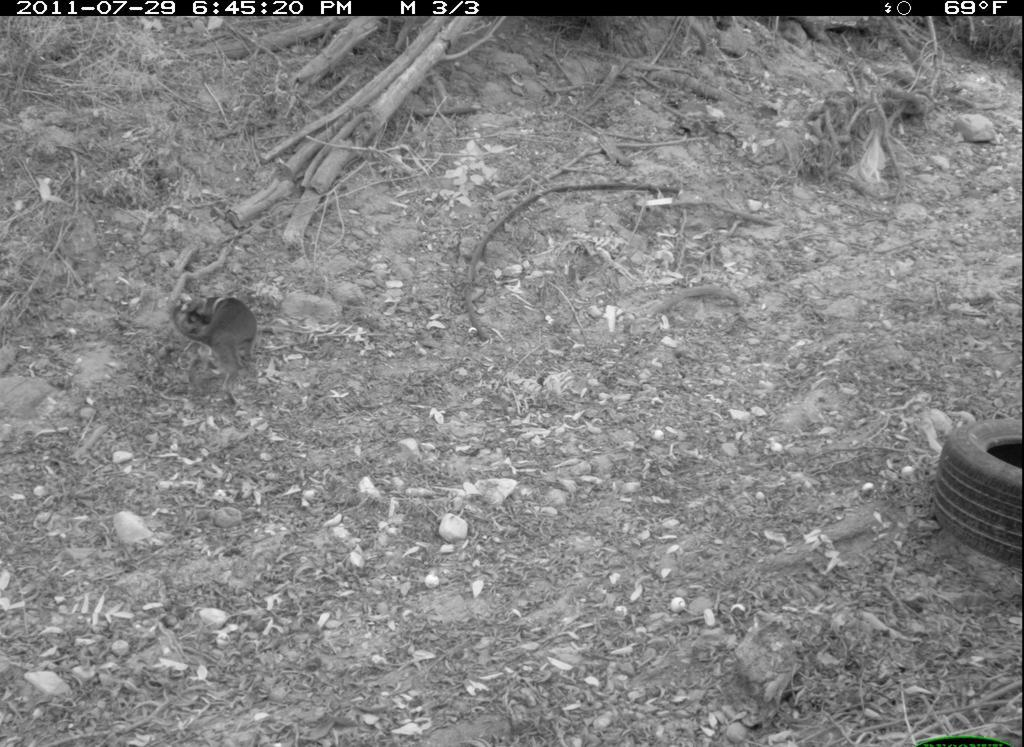dog: (150, 278, 290, 405)
